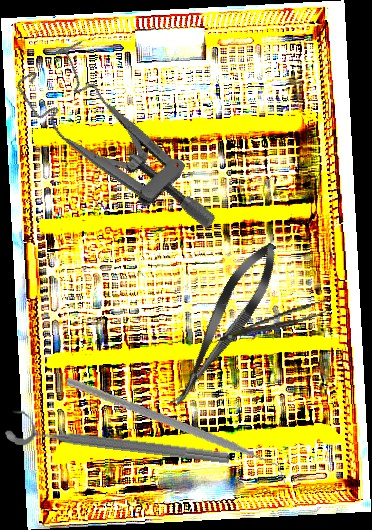Chopper: (65, 342, 287, 522)
Fixation Ring: (3, 406, 233, 471)
Micro Scissor: (159, 234, 289, 416)
Speculum: (10, 24, 221, 275)
Tissue Forceps: (216, 299, 332, 342)
